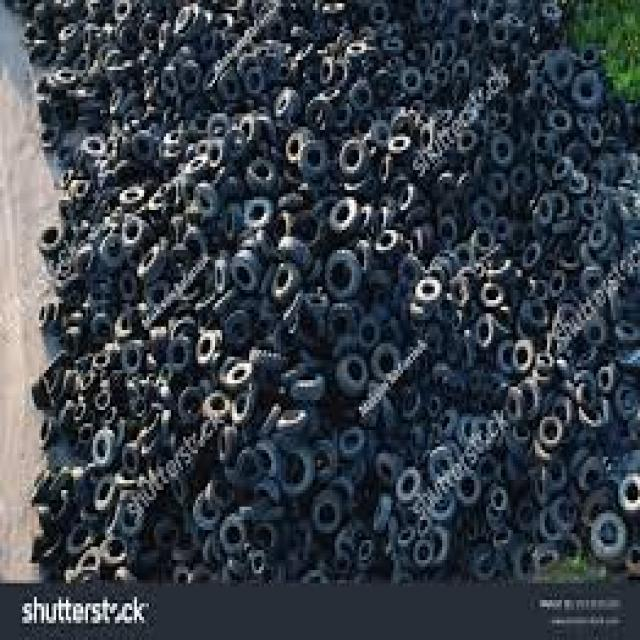Rubber -Non-Biodegradable but Recyclable-: (13, 0, 640, 587)
